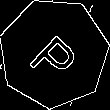P_NE: (23, 22, 85, 84)
